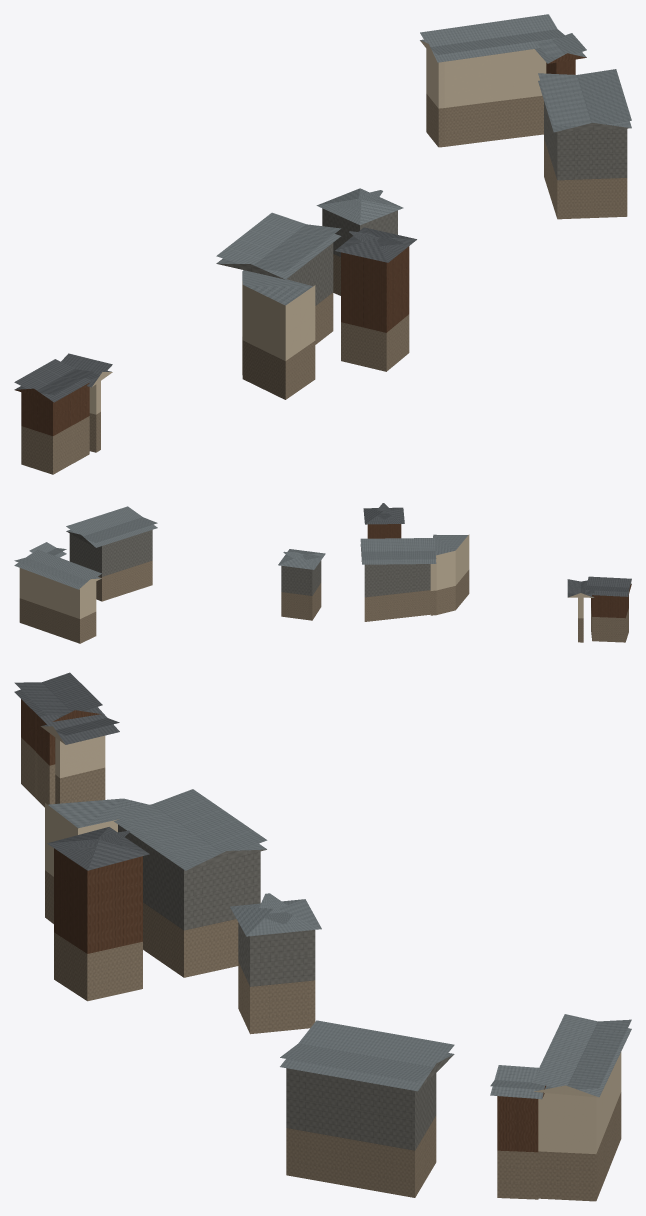
The model's file is bld_c22_45_388.gltf.
3 renders of one model, top to bottom at view 1: azimuth 30°, elevation 25°; view 2: azimuth 150°, elevation 25°; view 3: azimuth 270°, elevation 25°, orthographic. The views are drawn at different scales.
Parts seen in each view (by area): view 1: bld_c22_45_388; view 2: bld_c22_45_388; view 3: bld_c22_45_388.
Part boxes in pixels (box(x1,y1,x2,y2)): bld_c22_45_388: box(14, 14, 631, 474); bld_c22_45_388: box(14, 503, 631, 643); bld_c22_45_388: box(14, 672, 631, 1201).
Size of the model in its own units: 103 by 17 by 60.38.
9 materials, 9 textured.
